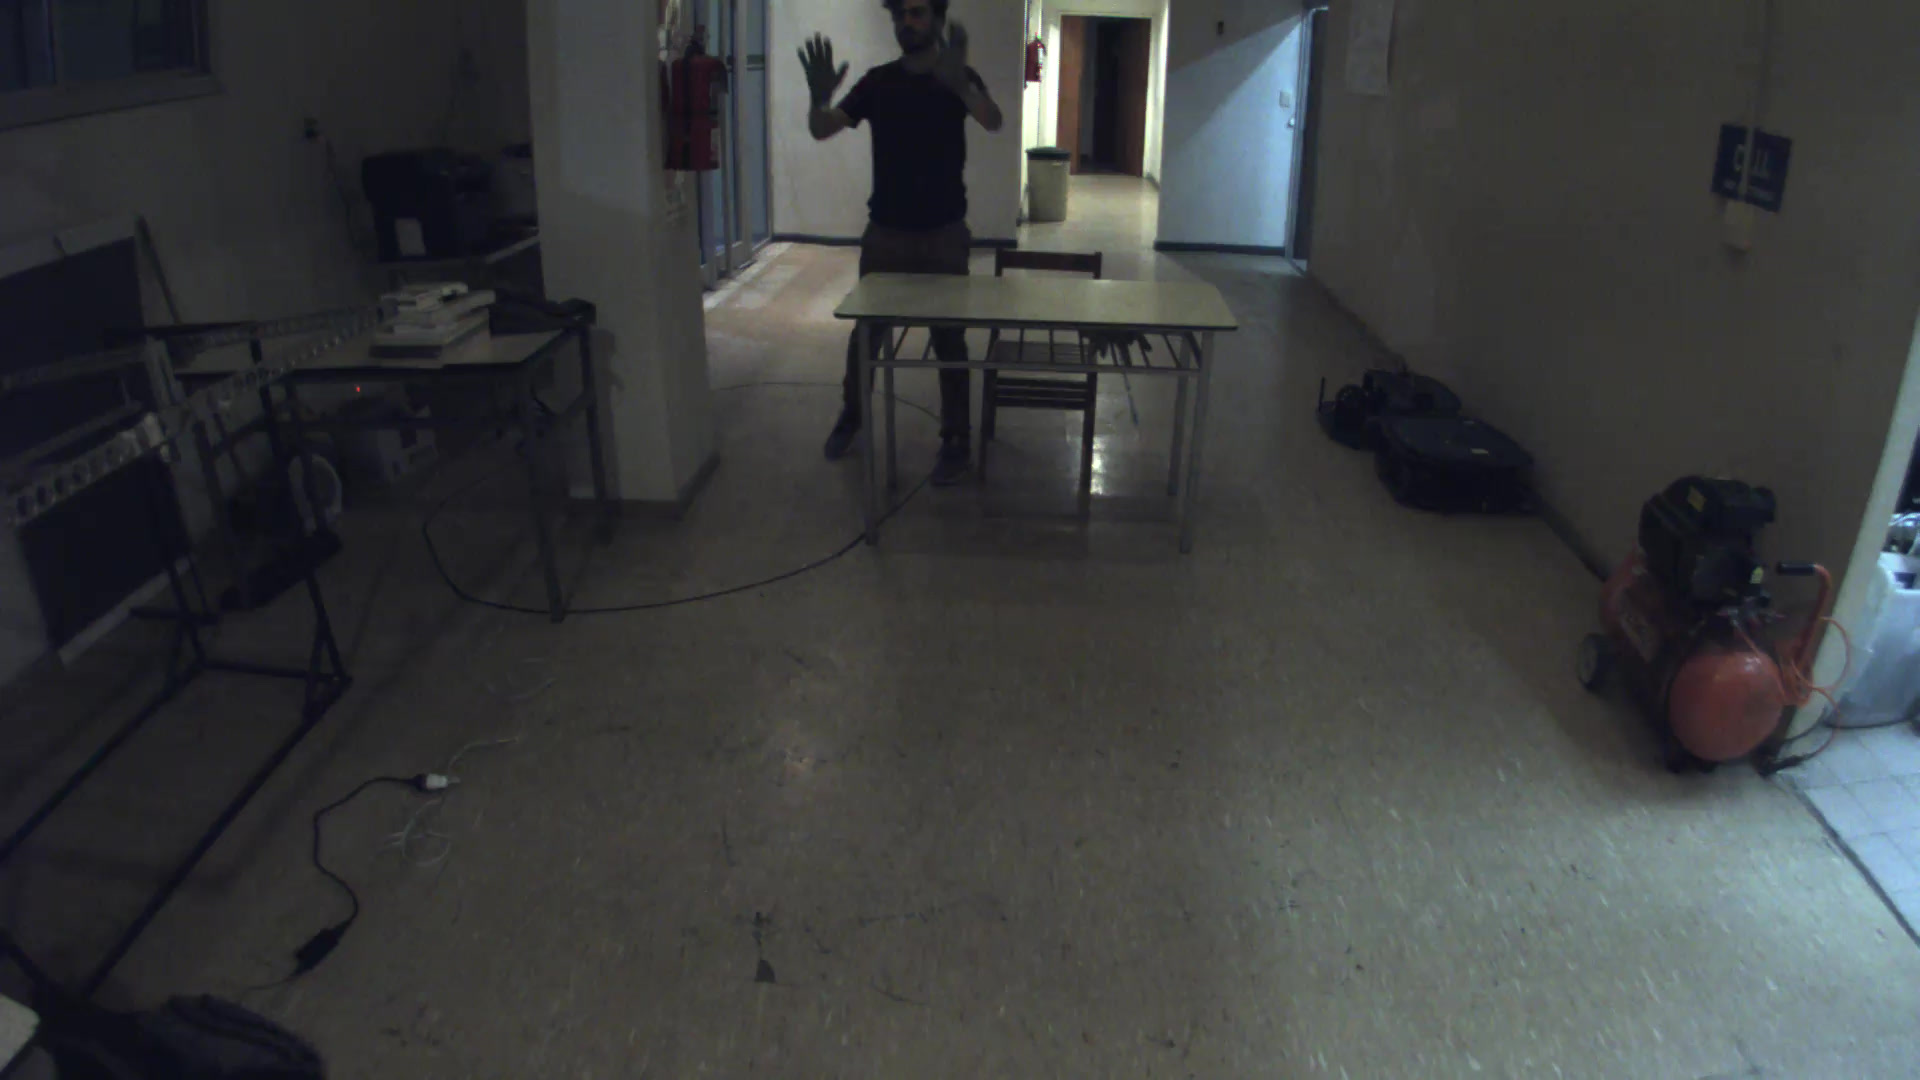hand: (916, 22, 992, 102), (789, 26, 855, 107)
